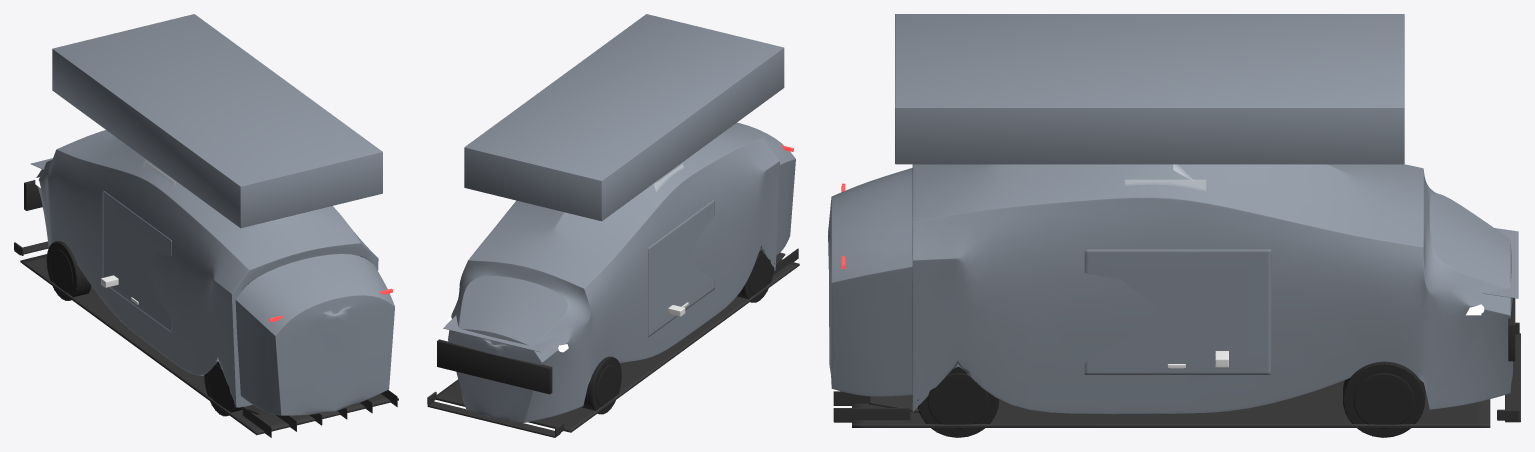
The model's file is vehicle.opt.glb.
3 renders of one model, left to right at view 1: azimuth 30°, elevation 25°; view 2: azimuth 150°, elevation 25°; view 3: azimuth 270°, elevation 25°, orthographic. The views are drawn at different scales.
Visible parts, largest first — view 1: BODY_MainShell, BODY_ETransit_SuperHighRoof, BODY_Door_FL, UNDERBODY_FlatFloor, WHEEL_FL_Tire, WHEEL_RL_Tire, JEWELRY_ETransit_Grille; view 2: BODY_MainShell, BODY_ETransit_SuperHighRoof, BODY_Door_FL, UNDERBODY_FlatFloor, JEWELRY_ETransit_Grille, WHEEL_FL_Tire, AERO_FrontSplitter, WHEEL_RL_Tire, BODY_Hood; view 3: BODY_MainShell, BODY_ETransit_SuperHighRoof, BODY_Door_FR, UNDERBODY_FlatFloor, WHEEL_FR_Tire, WHEEL_RR_Tire, AERO_FrontSplitter, BODY_Hood, GLASS_Greenhouse.
Boxes of the visible parts, x1,y1,x2,y2 form: BODY_MainShell: (36, 130, 394, 415); BODY_ETransit_SuperHighRoof: (52, 14, 382, 228); BODY_Door_FL: (102, 190, 171, 332); UNDERBODY_FlatFloor: (20, 254, 398, 437); WHEEL_FL_Tire: (46, 241, 91, 300); WHEEL_RL_Tire: (204, 361, 242, 416); JEWELRY_ETransit_Grille: (24, 180, 42, 210); BODY_MainShell: (448, 122, 795, 422); BODY_ETransit_SuperHighRoof: (464, 14, 784, 221); BODY_Door_FL: (648, 199, 714, 337); UNDERBODY_FlatFloor: (436, 248, 799, 432); JEWELRY_ETransit_Grille: (437, 339, 552, 394); WHEEL_FL_Tire: (581, 356, 621, 414); AERO_FrontSplitter: (427, 391, 564, 437); WHEEL_RL_Tire: (737, 250, 774, 302); BODY_Hood: (443, 315, 553, 352); BODY_MainShell: (828, 164, 1512, 414); BODY_ETransit_SuperHighRoof: (895, 14, 1404, 164); BODY_Door_FR: (1084, 249, 1271, 374); UNDERBODY_FlatFloor: (833, 380, 1490, 427); WHEEL_FR_Tire: (1343, 361, 1425, 437); WHEEL_RR_Tire: (917, 366, 999, 437); AERO_FrontSplitter: (1497, 322, 1520, 422); BODY_Hood: (1482, 228, 1518, 298); GLASS_Greenhouse: (1124, 164, 1206, 190).
Size of what is drawn, in the model's own units: 2.4 by 3.22 by 6.1.
